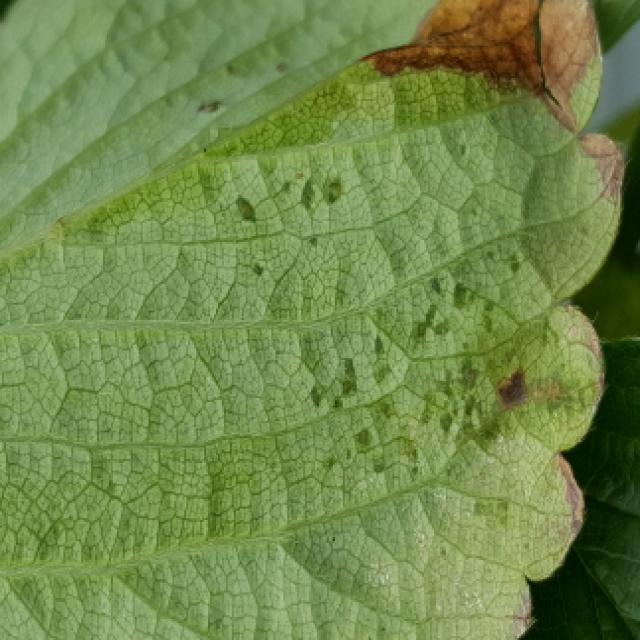Angular Leafspot: (175, 0, 628, 640)
